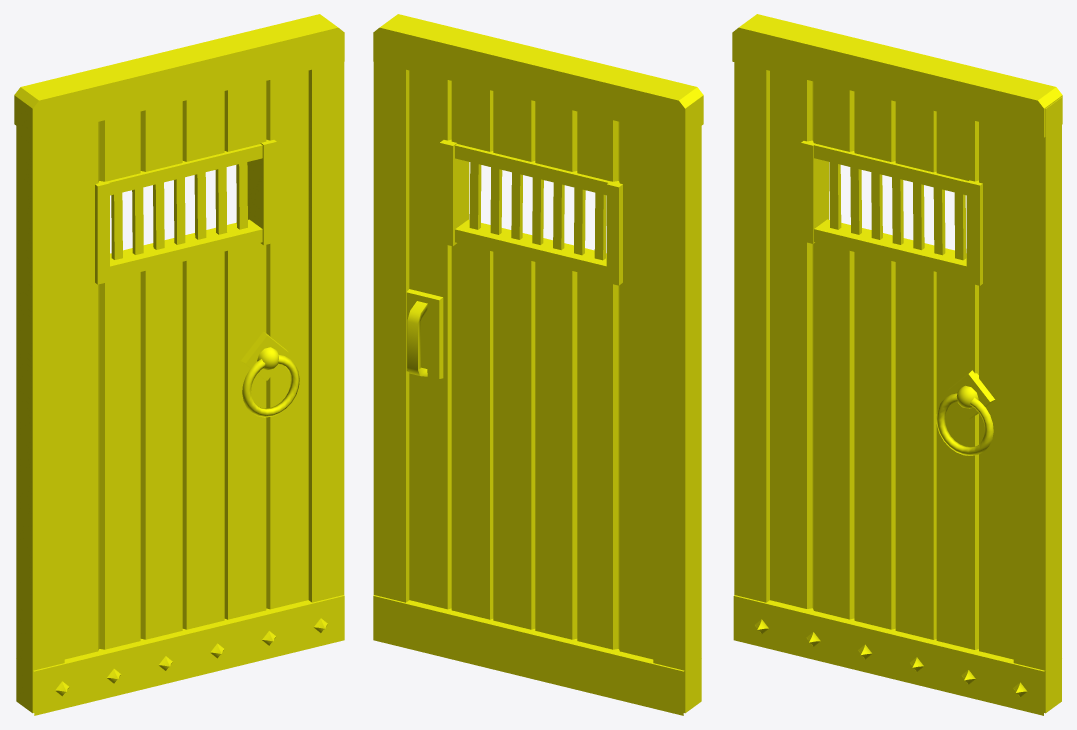
The model's file is door-8-flat.glb.
The picture shows the model from 3 angles, left to right: view 1: azimuth 30°, elevation 25°; view 2: azimuth 150°, elevation 25°; view 3: azimuth 330°, elevation 25°; orthographic projection.
Parts seen in each view (by area): view 1: Door_8_Flat; view 2: Door_8_Flat; view 3: Door_8_Flat.
Boxes of the visible parts, x1,y1,x2,y2 form: Door_8_Flat: (14,14,344,715); Door_8_Flat: (373,14,703,715); Door_8_Flat: (732,14,1062,715).
Size of the model in its own units: 1.12 by 2.1 by 0.1995.
2 materials, 2 textured.
